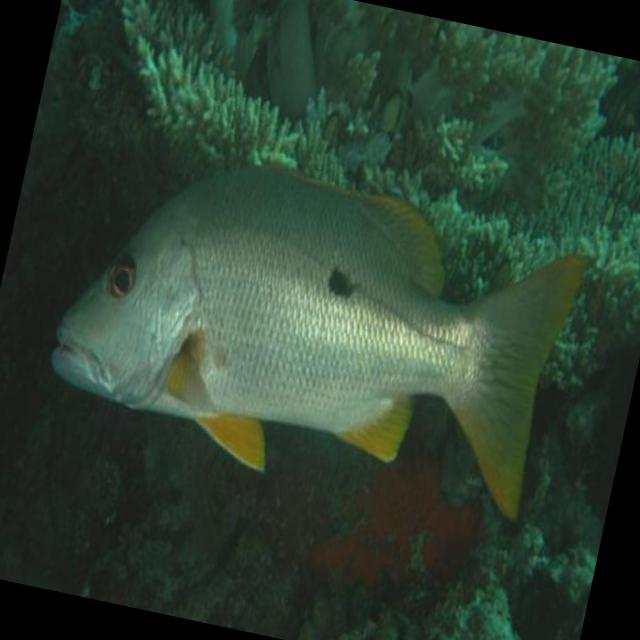ikan: (32, 126, 598, 534)
